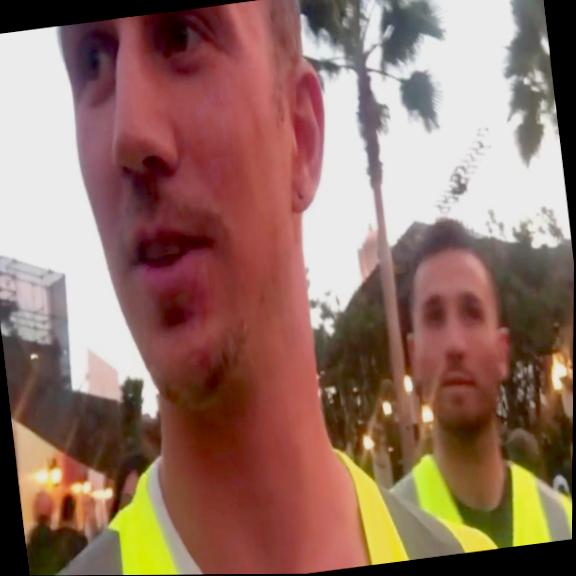safety_vest: (16, 409, 511, 576), (381, 432, 573, 561)
